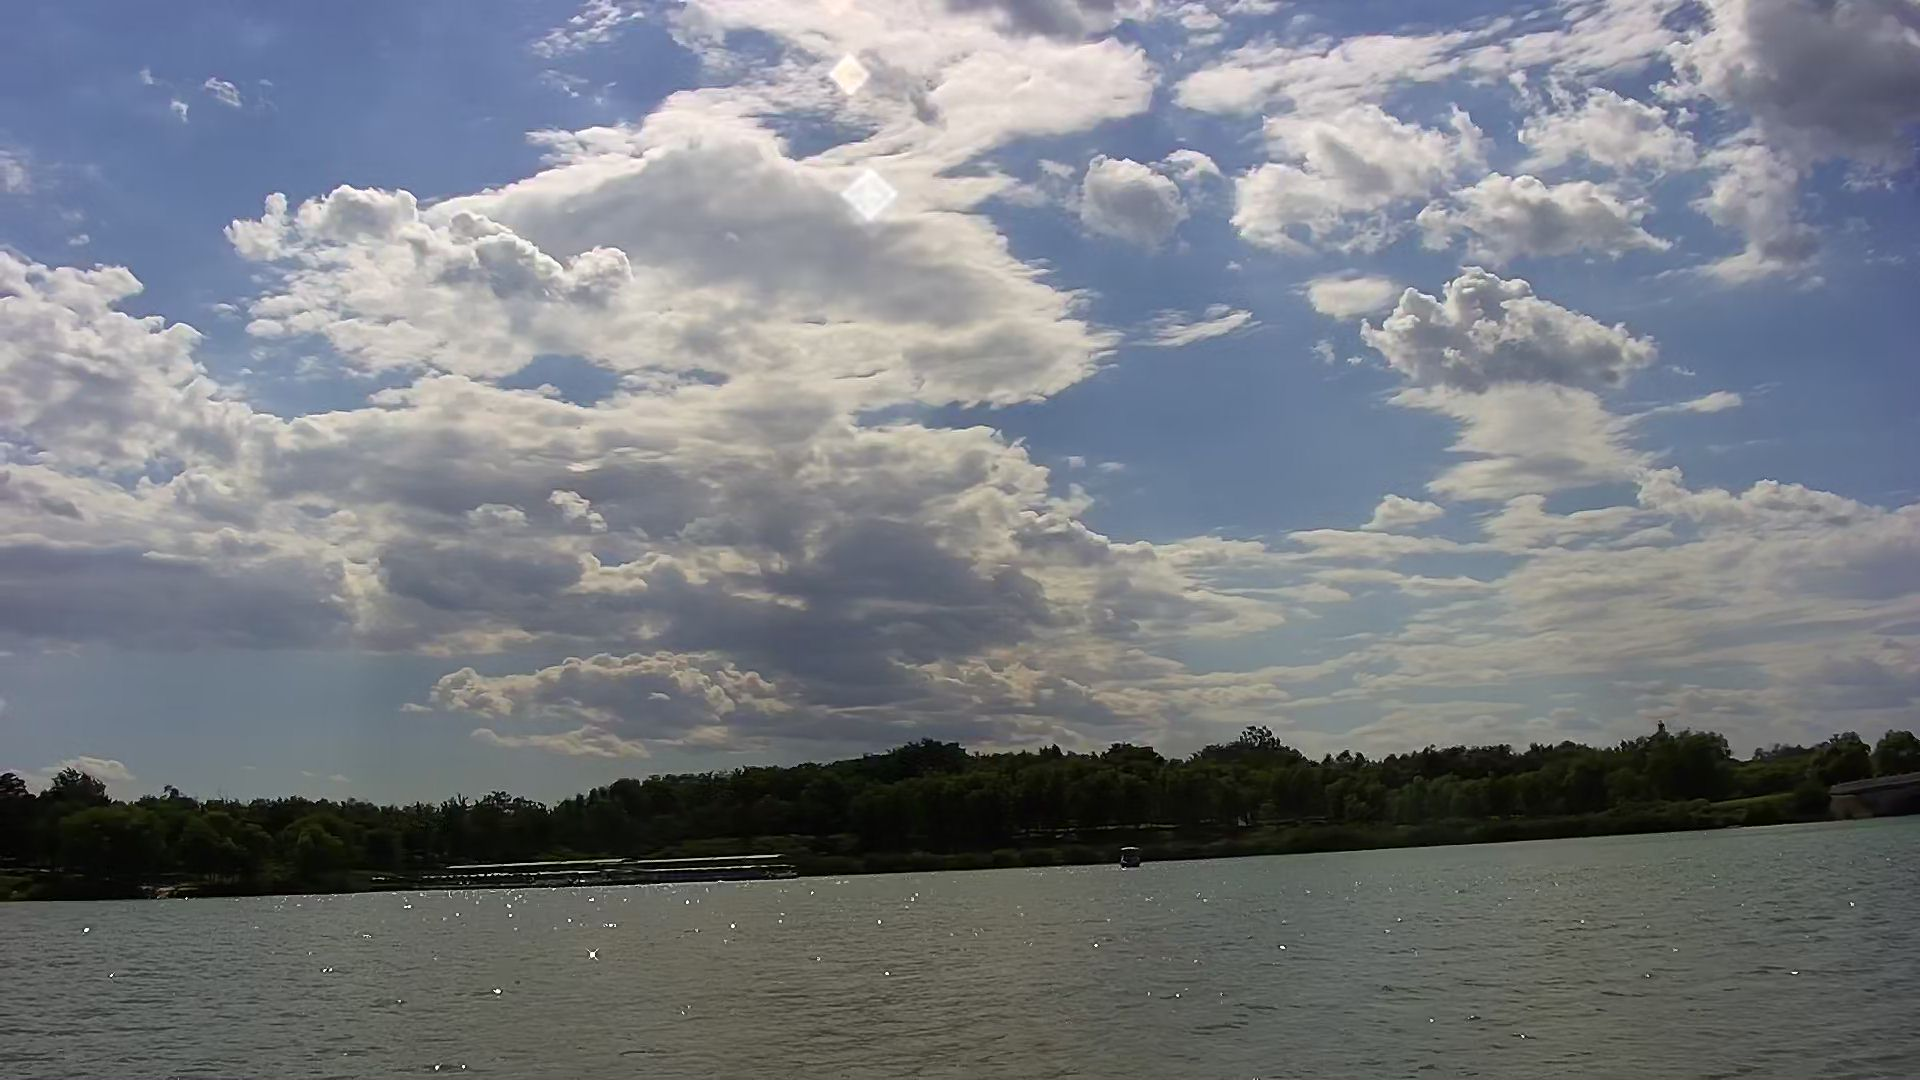boat: (1116, 843, 1146, 872)
bridge: (1833, 767, 1920, 820)
harbor: (438, 847, 789, 886)
